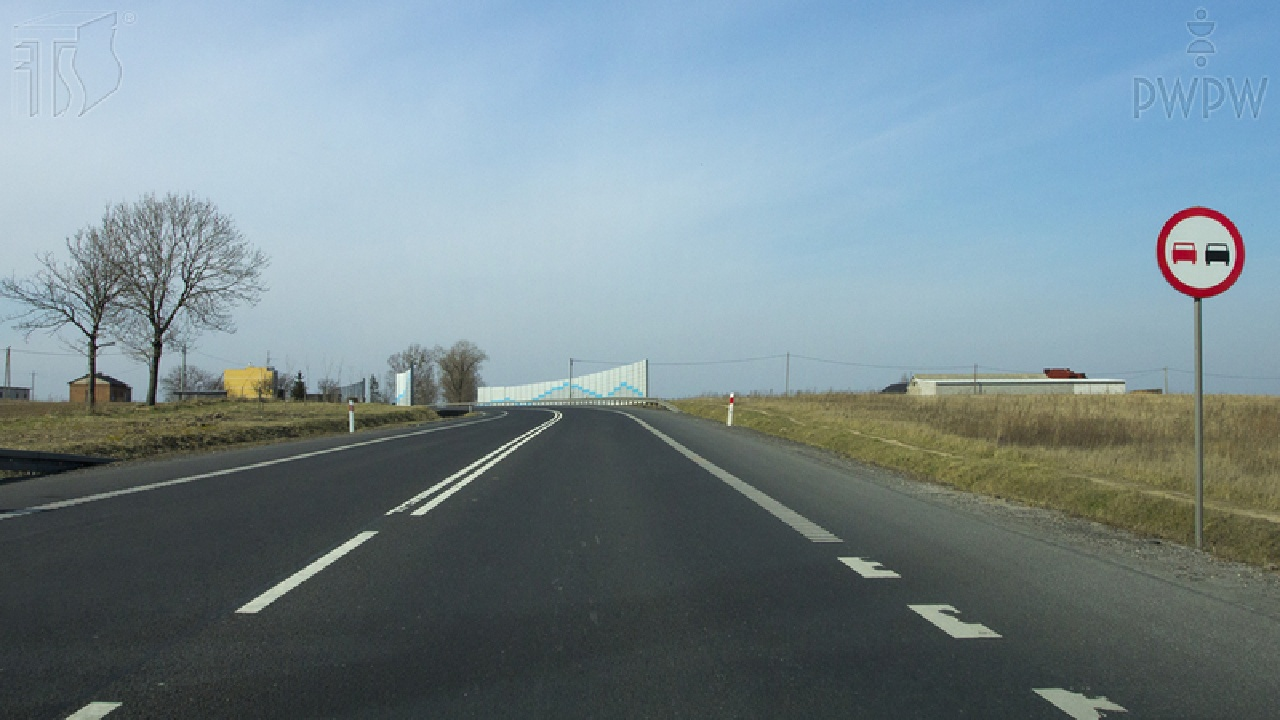B25: (1158, 206, 1244, 298)
